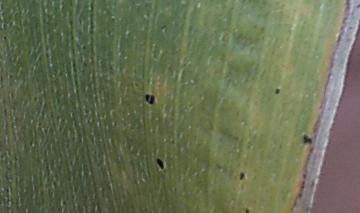tarspot: (143, 92, 156, 106), (154, 157, 166, 171), (301, 133, 314, 145), (159, 22, 167, 33), (238, 171, 246, 181), (31, 94, 38, 105), (273, 87, 281, 95), (48, 111, 56, 119), (60, 199, 67, 207), (81, 44, 88, 52), (1, 33, 8, 41), (243, 206, 249, 213), (5, 186, 9, 193)
